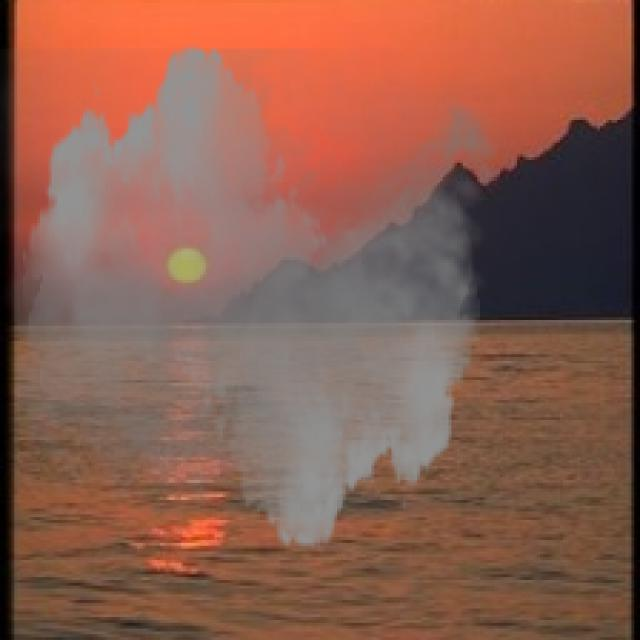smoke: (0, 28, 515, 566)
